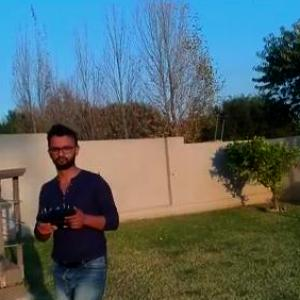follow: (35, 119, 131, 299)
